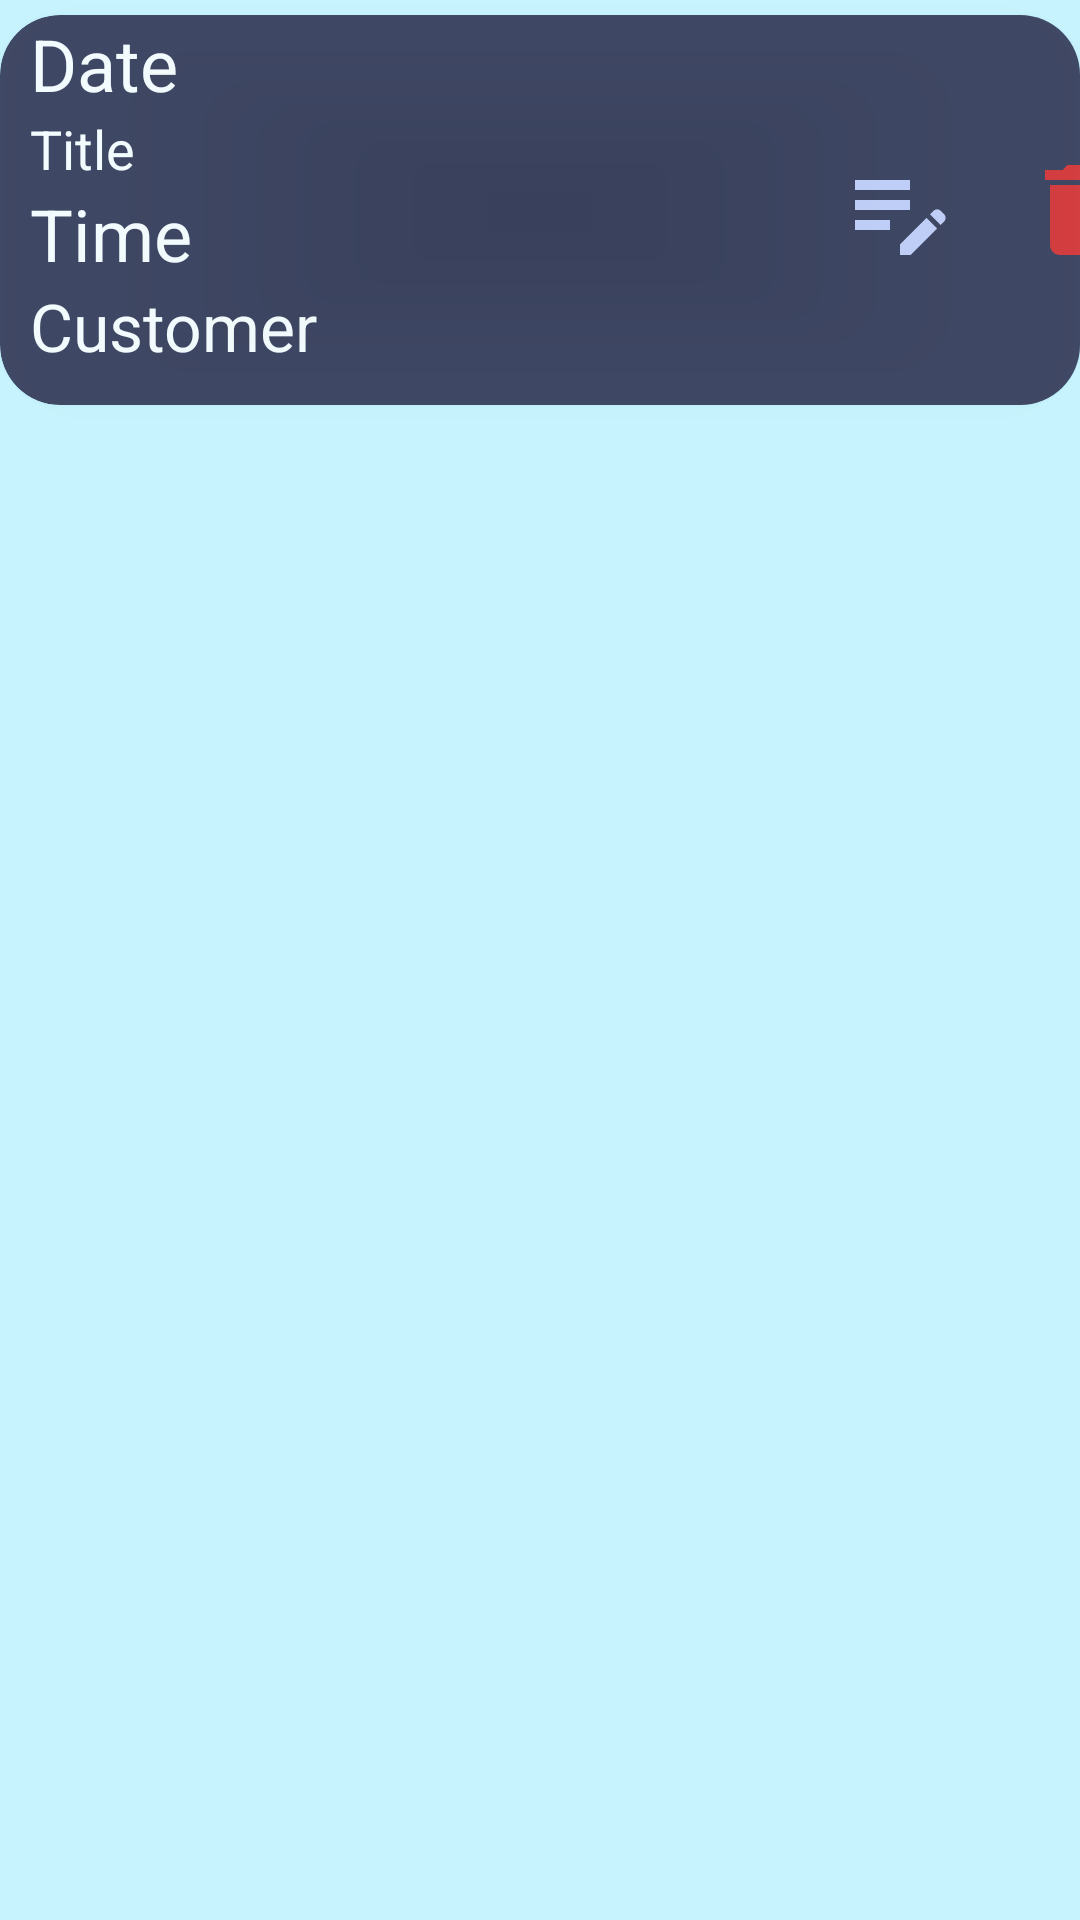

Locate icon controls on the screen. Image size 1080×1920, boxes as [x1=x1, y1=y1, x2=x2, y2=y2].
edit note: [x1=855, y1=180, x2=946, y2=255]
